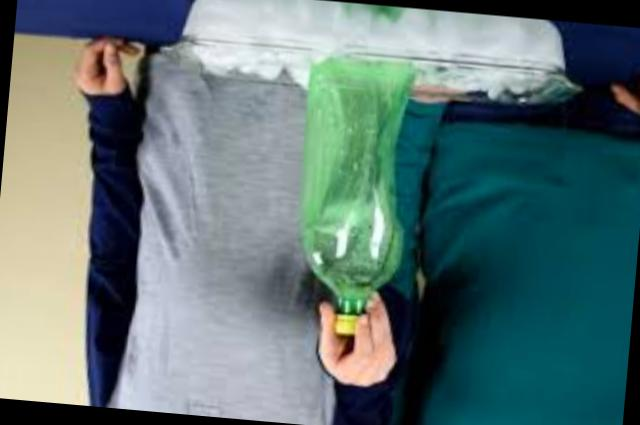plastic: (297, 60, 407, 336)
